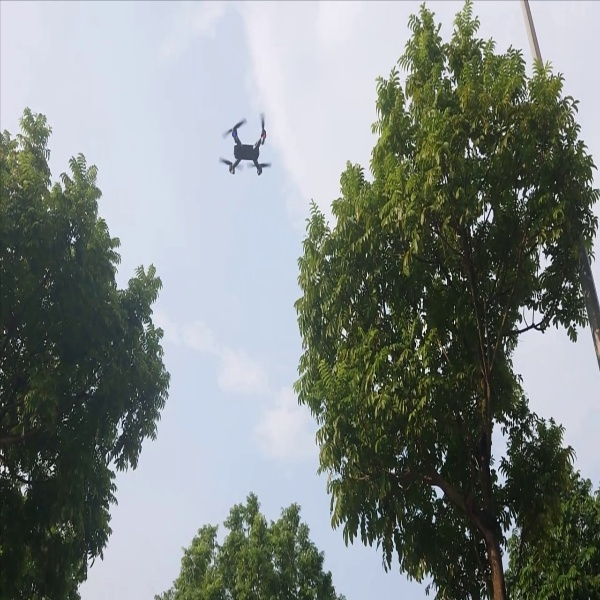drone: (214, 109, 282, 184)
